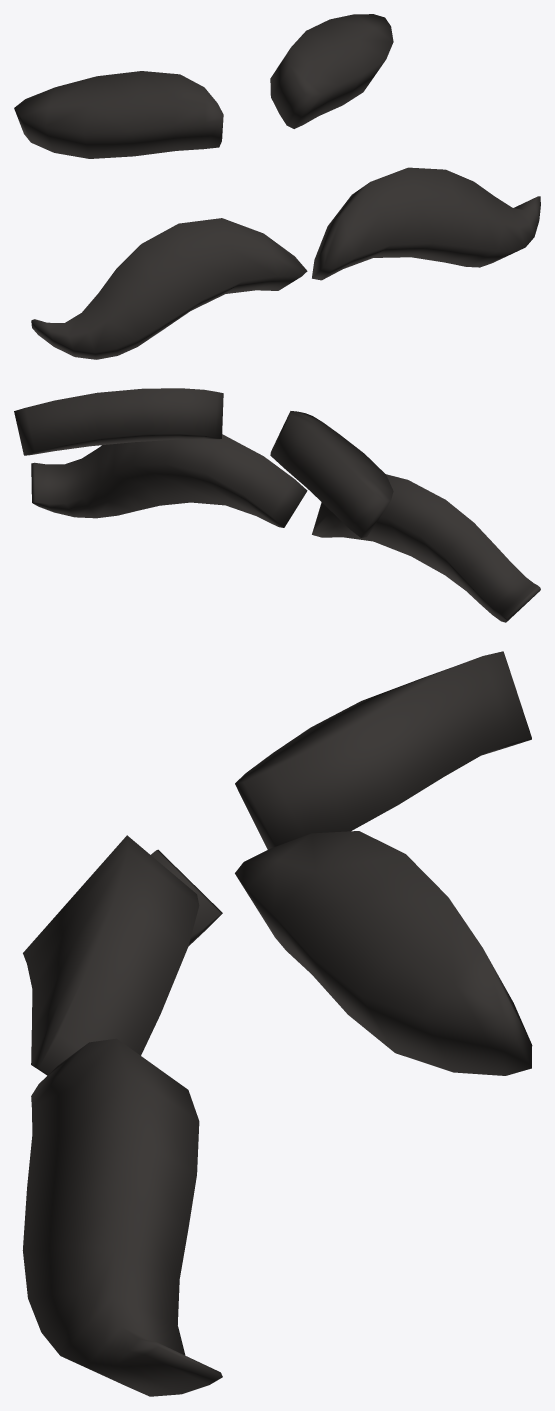
The model's file is moustache.fbx.
3 renders of one model, top to bottom at view 1: azimuth 30°, elevation 25°; view 2: azimuth 150°, elevation 25°; view 3: azimuth 270°, elevation 25°, orthographic. The views are drawn at different scales.
Parts seen in each view (by area): view 1: moustache; view 2: moustache; view 3: moustache.
Part boxes in pixels (box(x1,y1,x2,y2)): moustache: box(14, 14, 540, 359); moustache: box(14, 388, 540, 622); moustache: box(22, 651, 532, 1396).
Bounding box in the file's own units: 30.93 × 12.15 × 13.4.
